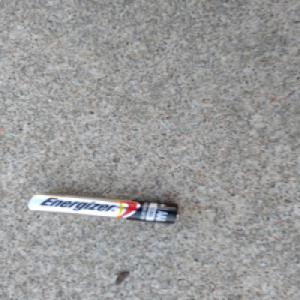Battery: (24, 192, 181, 226)
